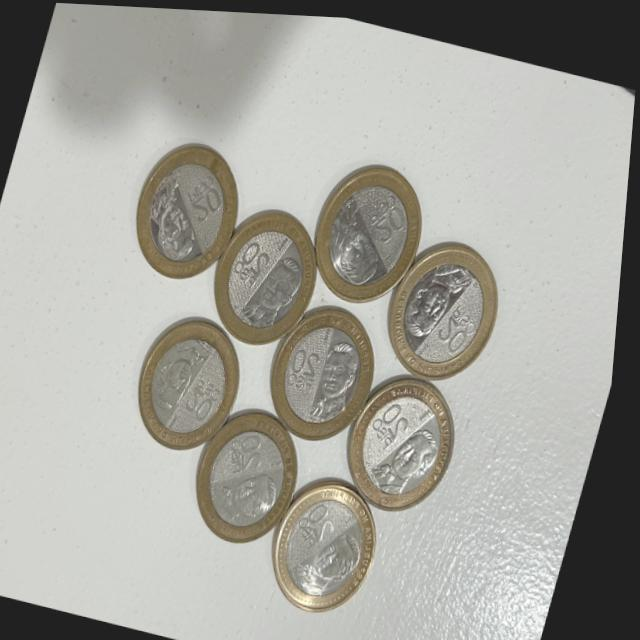20_New_Front: (356, 179, 418, 254), (175, 163, 233, 232), (285, 330, 336, 398), (181, 363, 231, 431), (300, 486, 349, 554), (369, 388, 418, 454), (433, 297, 485, 359), (234, 234, 281, 292), (232, 423, 281, 477)
